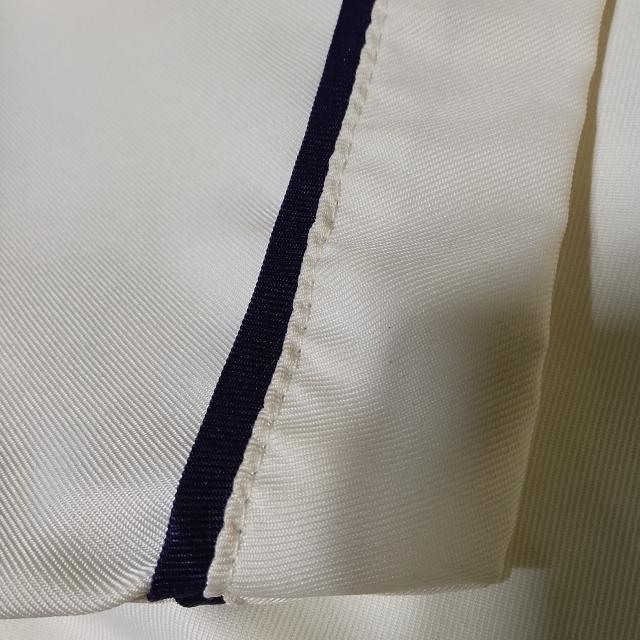education_male_uniform: (0, 602, 616, 640)
